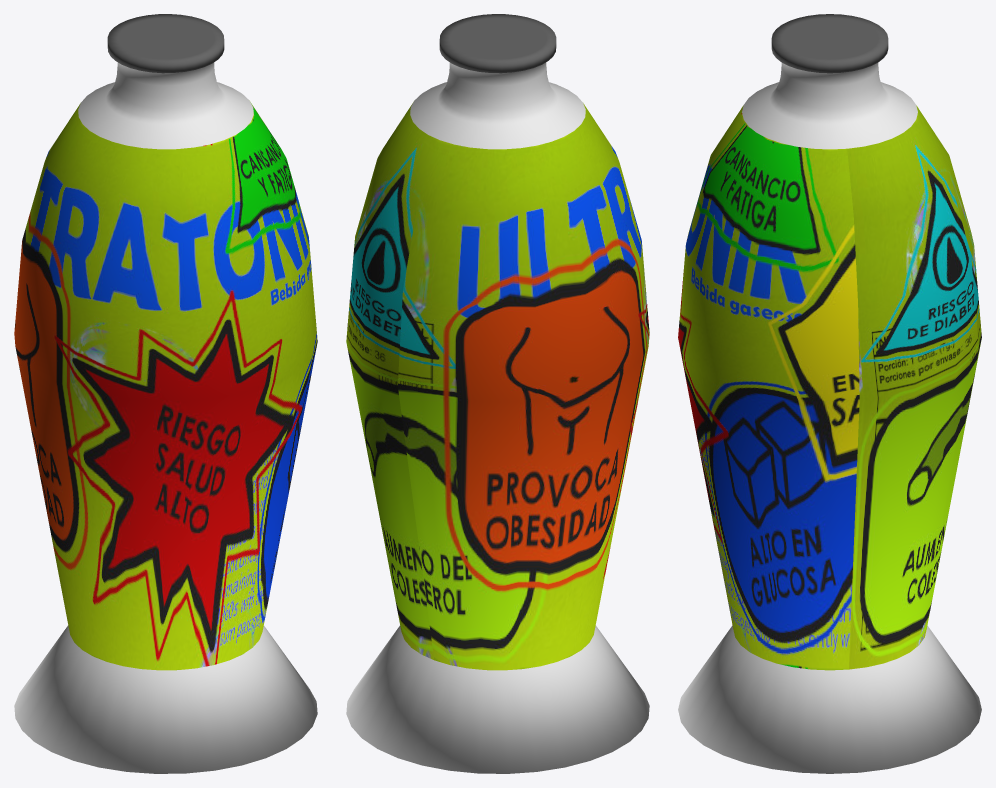
Rendered from Botella_01.fbx.
3 views of the same model, side by side, from view 1: azimuth 30°, elevation 25°; view 2: azimuth 150°, elevation 25°; view 3: azimuth 270°, elevation 25° (orthographic).
Parts seen in each view (by area): view 1: botella01; view 2: botella01; view 3: botella01.
Part boxes in pixels (x1,y1,x2,y2): botella01: (14, 14, 317, 773); botella01: (346, 14, 649, 773); botella01: (678, 14, 981, 773).
Size of the model in its own units: 210 by 512 by 210.
3 materials, 1 textured.
